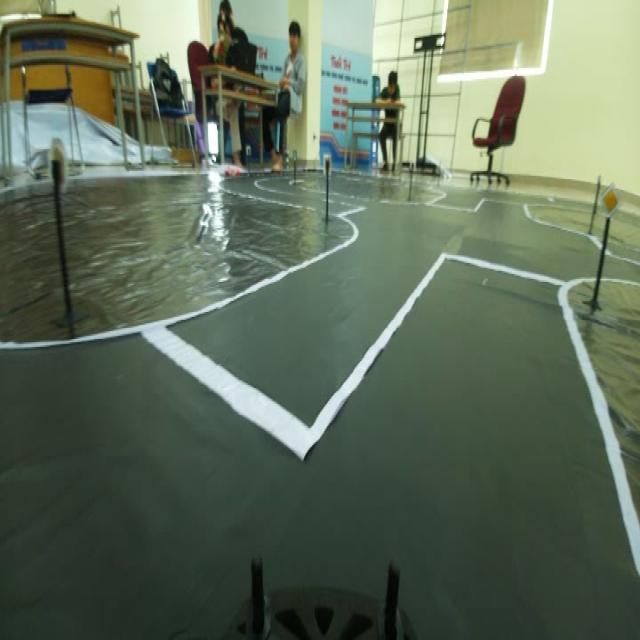priority: (596, 182, 622, 224)
